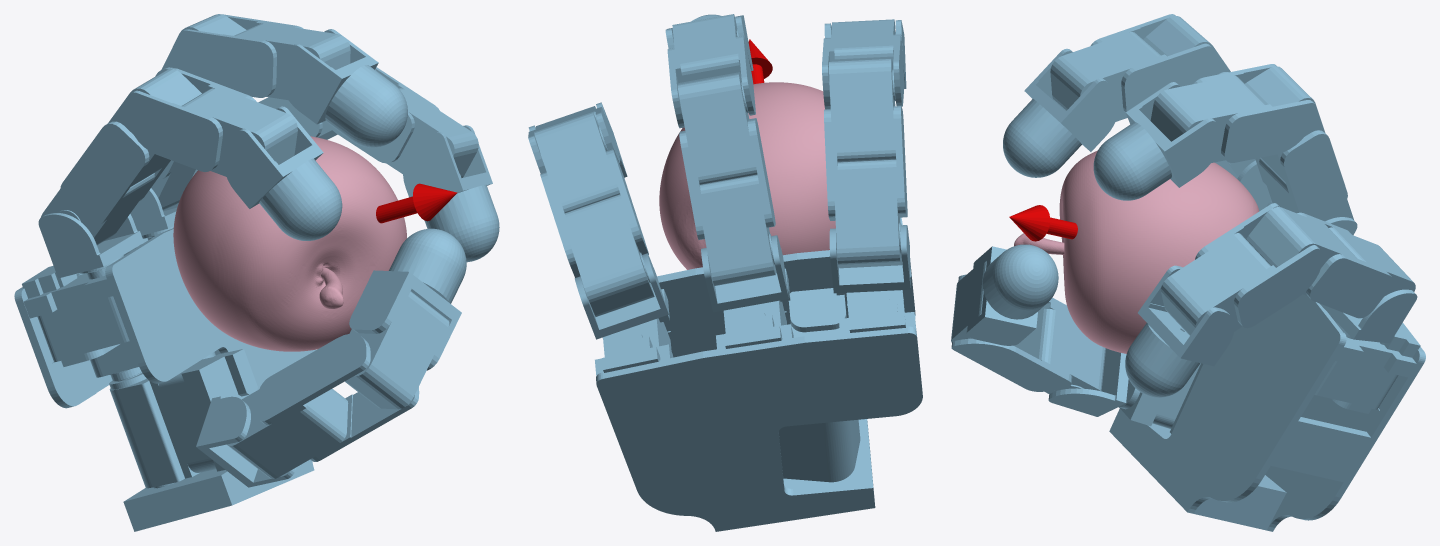
3 views of the same model, side by side, from view 1: azimuth 30°, elevation 25°; view 2: azimuth 150°, elevation 25°; view 3: azimuth 270°, elevation 25° (orthographic). The views are drawn at different scales.
Parts seen in each view (by area): view 1: world, apple.stl; view 2: world, apple.stl; view 3: world, apple.stl.
Boxes of the visible parts, <box> form: world: <box>14,14,499,531</box>; apple.stl: <box>173,136,406,351</box>; world: <box>528,14,922,531</box>; apple.stl: <box>659,82,835,269</box>; world: <box>951,14,1425,531</box>; apple.stl: <box>1014,150,1259,353</box>.
Size of the model in its own units: 0.1697 by 0.1815 by 0.1691.
